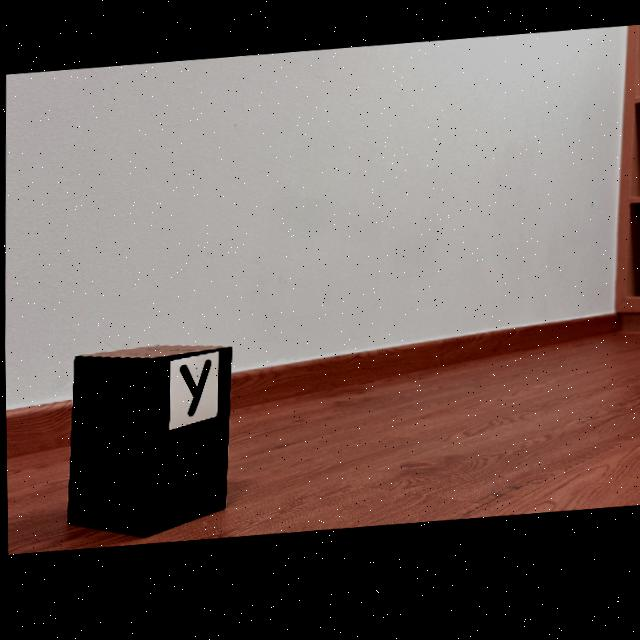Y: (178, 363, 209, 420)
